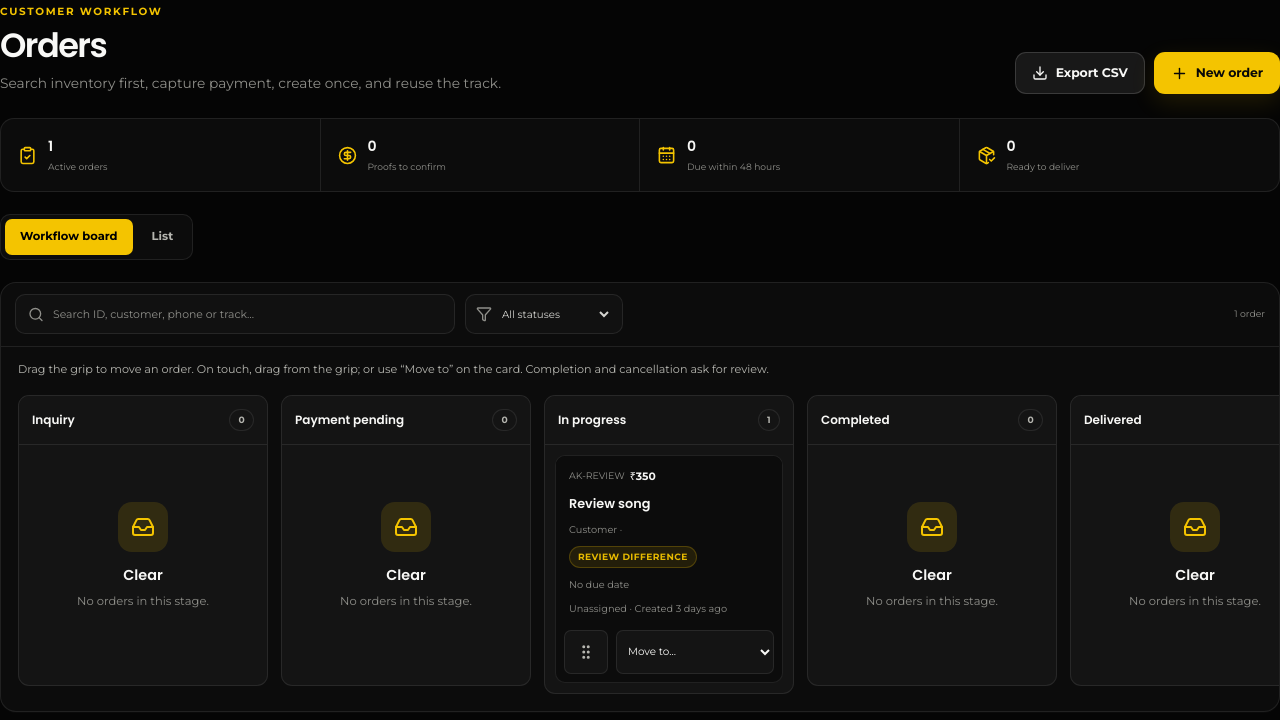
Test: board review handoffs › opens completion and cancellation review without saving either from the drop/menu action
Select "Completed · review" in the dropdown named "Move AK-REVIEW to": (695, 652) [616,630,774,674]
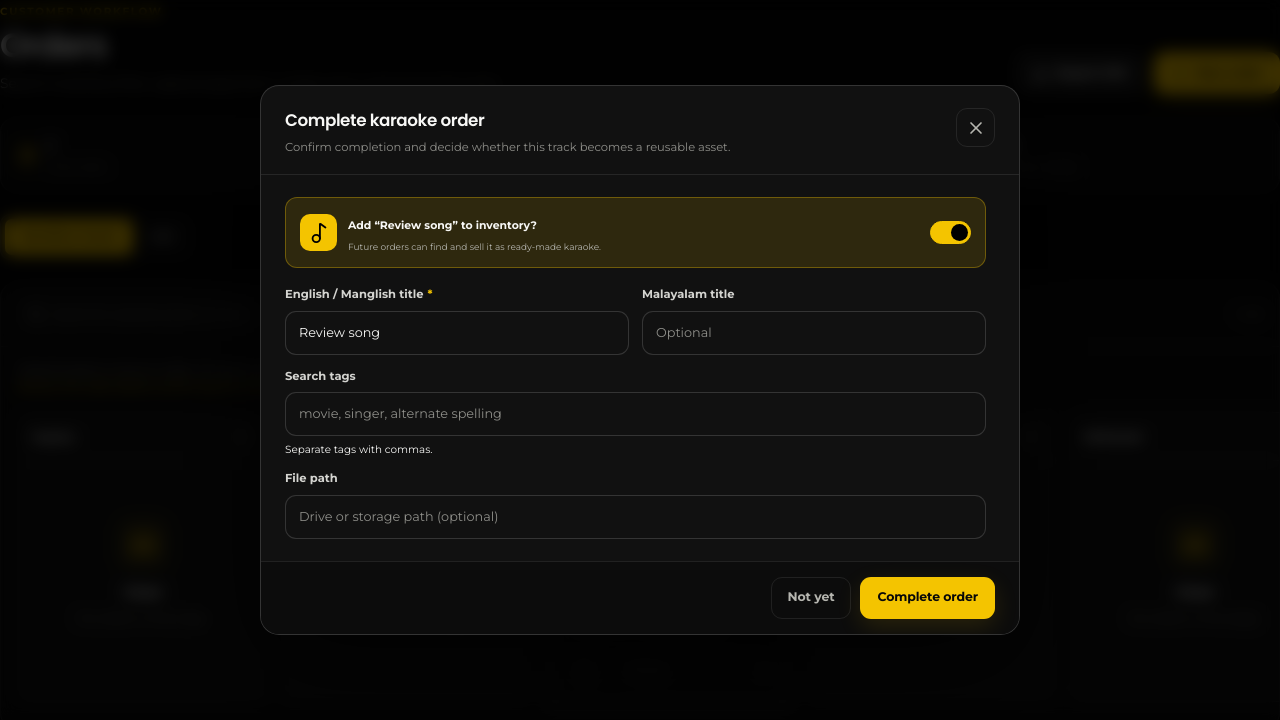
Check: the heading "Complete karaoke order" is shown, box [285,108,484,132]
Check: the text "Add “Review song” to inventory?" is shown, box [348,218,537,232]
Click the button "Not yet": (811, 598) [771,577,852,619]
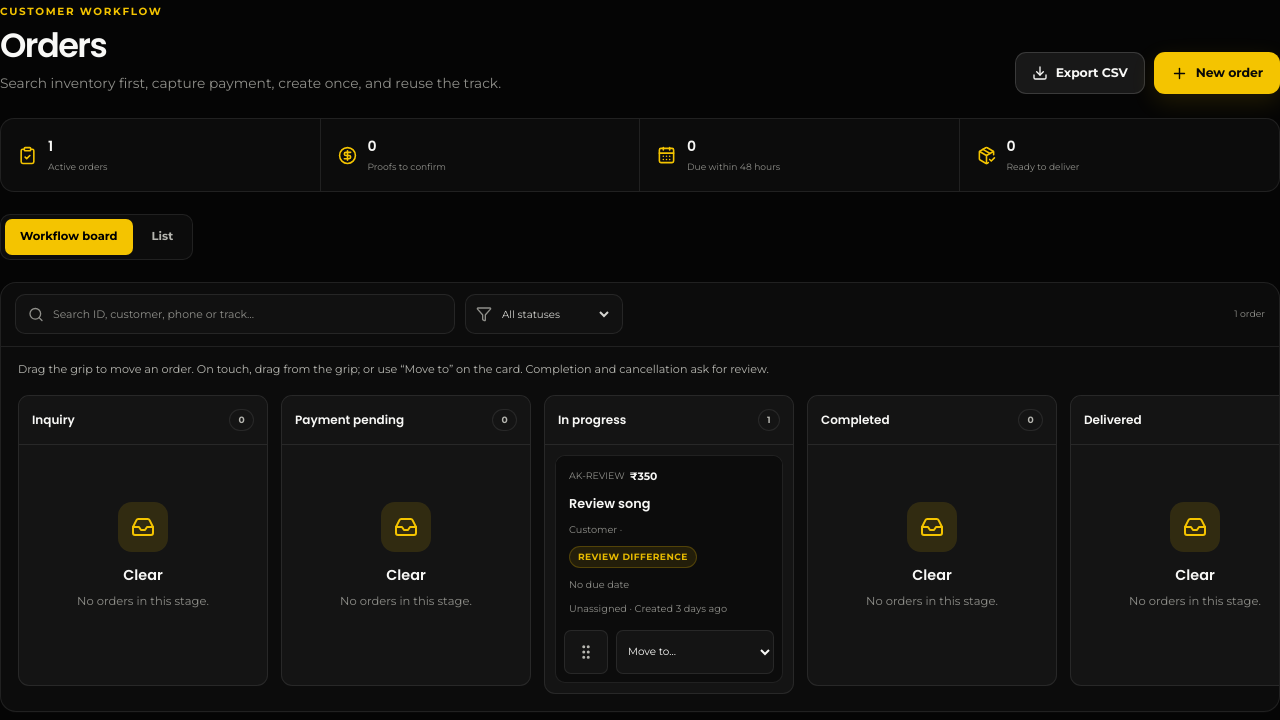
Check: the dropdown named "Move AK-REVIEW to" is enabled
Select "Cancelled · review" in the dropdown named "Move AK-REVIEW to": (695, 652) [616,630,774,674]
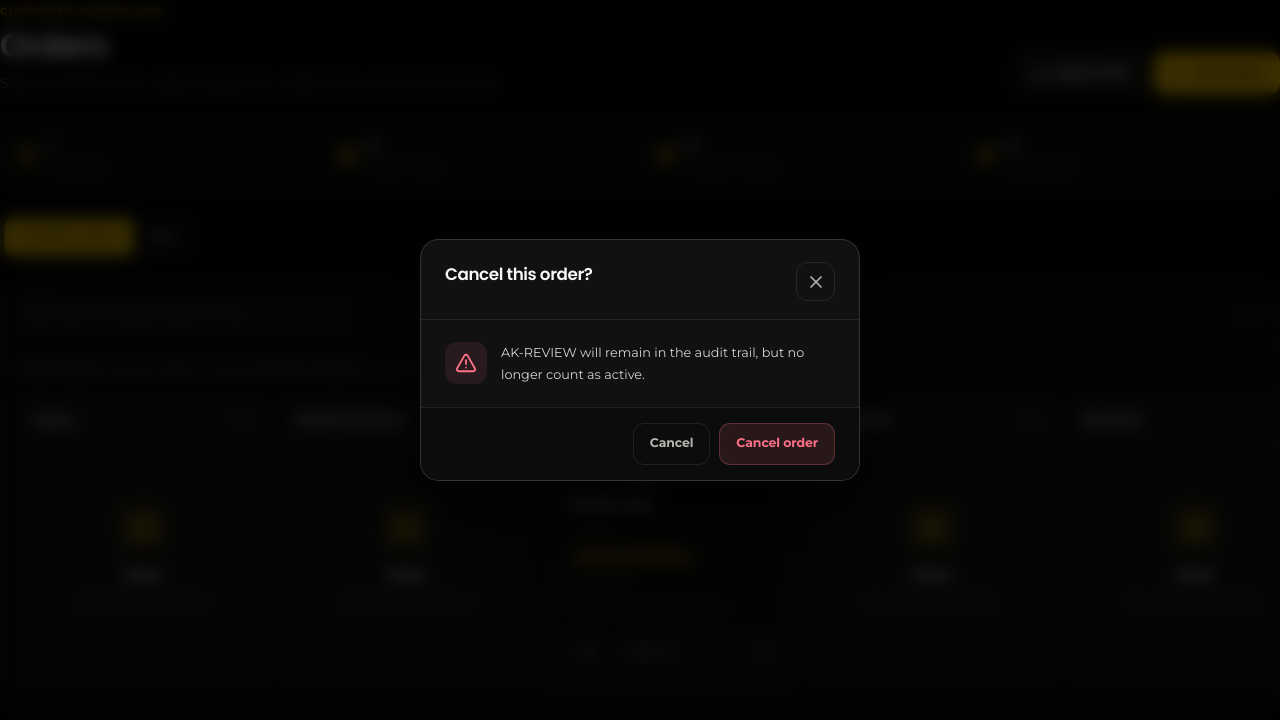
Check: the heading "Cancel this order?" is shown, box [445,262,592,288]
